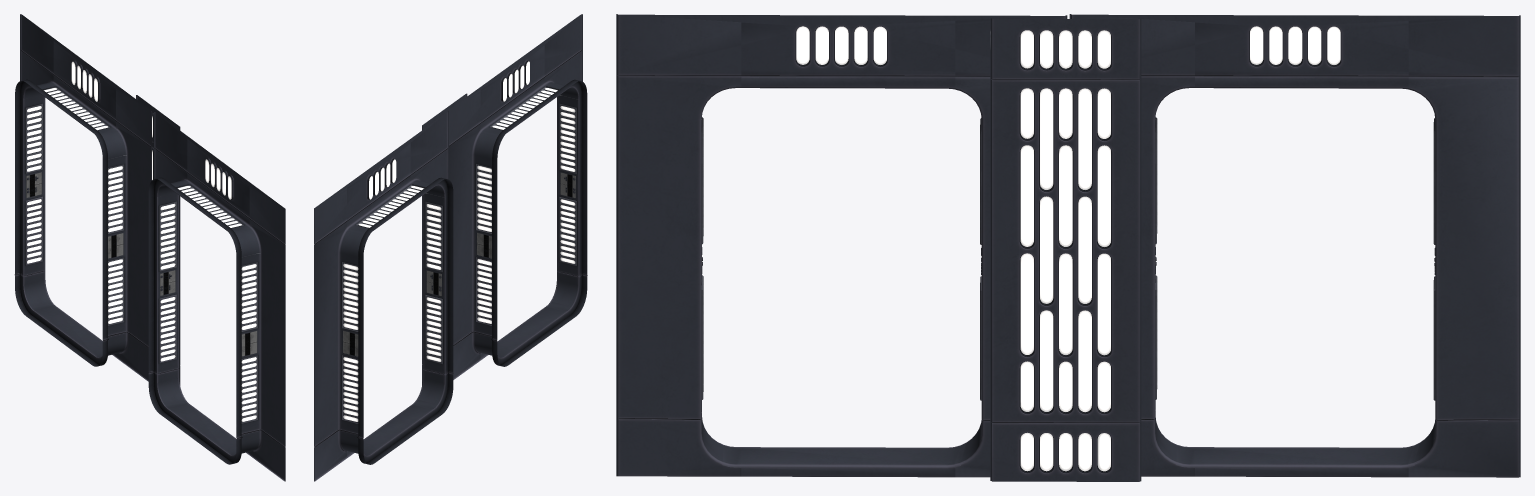
The model's file is sw_double_gate.glb.
The picture shows the model from 3 angles, left to right: view 1: azimuth 30°, elevation 25°; view 2: azimuth 150°, elevation 25°; view 3: azimuth 270°, elevation 25°; orthographic projection. The views are drawn at different scales.
Parts seen in each view (by area): view 1: Small_DoorFrame7_VenatorV3_SmallDoor_WallLight_0.002, Small_DoorFrame7_VenatorV3_SmallDoor_WallLight_0.007, Small_DoorFrame7_VenatorV3_SmallDoor_WallLight_0.003, Small_DoorFrame7_VenatorV3_SmallDoor_WallLight_0.006, Small_DoorFrame7_VenatorV3_SmallDoor_WallLight_0.008, Small_DoorFrame7_VenatorV3_SmallDoor_WallLight_0.001, Small_DoorFrame7_VenatorV3_SmallDoor_WallLight_0.004, Small_DoorFrame7_VenatorV3_SmallDoor_WallLight_0.005, VenatorLights5_VenatorV3_SmallDoor_WallLight_0.001; view 2: Small_DoorFrame7_VenatorV3_SmallDoor_WallLight_0.006, Small_DoorFrame7_VenatorV3_SmallDoor_WallLight_0.003, Small_DoorFrame7_VenatorV3_SmallDoor_WallLight_0.002, Small_DoorFrame7_VenatorV3_SmallDoor_WallLight_0.007, Small_DoorFrame7_VenatorV3_SmallDoor_WallLight_0.001, Small_DoorFrame7_VenatorV3_SmallDoor_WallLight_0.008, Small_DoorFrame7_VenatorV3_SmallDoor_WallLight_0.004, Small_DoorFrame7_VenatorV3_SmallDoor_WallLight_0.005, VenatorLights5_VenatorV3_SmallDoor_WallLight_0.001; view 3: VenatorLights5_VenatorV3_SmallDoor_WallLight_0.001, Small_DoorFrame7_VenatorV3_SmallDoor_WallLight_0.002, Small_DoorFrame7_VenatorV3_SmallDoor_WallLight_0.006, Small_DoorFrame7_VenatorV3_SmallDoor_WallLight_0.001, Small_DoorFrame7_VenatorV3_SmallDoor_WallLight_0.008, Small_DoorFrame7_VenatorV3_SmallDoor_WallLight_0.007, Small_DoorFrame7_VenatorV3_SmallDoor_WallLight_0.003, Small_DoorFrame7_VenatorV3_SmallDoor_WallLight_0.004, Small_DoorFrame7_VenatorV3_SmallDoor_WallLight_0.005.
Part boxes in pixels (x1,y1,x2,y2): Small_DoorFrame7_VenatorV3_SmallDoor_WallLight_0.002: (226,182,285,481); Small_DoorFrame7_VenatorV3_SmallDoor_WallLight_0.007: (92,84,151,381); Small_DoorFrame7_VenatorV3_SmallDoor_WallLight_0.003: (148,112,187,411); Small_DoorFrame7_VenatorV3_SmallDoor_WallLight_0.006: (14,14,53,313); Small_DoorFrame7_VenatorV3_SmallDoor_WallLight_0.008: (24,38,117,133); Small_DoorFrame7_VenatorV3_SmallDoor_WallLight_0.001: (158,136,251,231); Small_DoorFrame7_VenatorV3_SmallDoor_WallLight_0.004: (158,397,254,463); Small_DoorFrame7_VenatorV3_SmallDoor_WallLight_0.005: (24,299,121,366); VenatorLights5_VenatorV3_SmallDoor_WallLight_0.001: (136,95,180,385); Small_DoorFrame7_VenatorV3_SmallDoor_WallLight_0.006: (314,185,371,481); Small_DoorFrame7_VenatorV3_SmallDoor_WallLight_0.003: (448,87,505,379); Small_DoorFrame7_VenatorV3_SmallDoor_WallLight_0.002: (544,14,587,314); Small_DoorFrame7_VenatorV3_SmallDoor_WallLight_0.007: (410,112,453,412); Small_DoorFrame7_VenatorV3_SmallDoor_WallLight_0.001: (478,41,575,137); Small_DoorFrame7_VenatorV3_SmallDoor_WallLight_0.008: (344,139,441,235); Small_DoorFrame7_VenatorV3_SmallDoor_WallLight_0.004: (478,301,577,366); Small_DoorFrame7_VenatorV3_SmallDoor_WallLight_0.005: (344,399,443,464); VenatorLights5_VenatorV3_SmallDoor_WallLight_0.001: (422,93,467,385); VenatorLights5_VenatorV3_SmallDoor_WallLight_0.001: (990,18,1141,481); Small_DoorFrame7_VenatorV3_SmallDoor_WallLight_0.002: (616,14,741,476); Small_DoorFrame7_VenatorV3_SmallDoor_WallLight_0.006: (1408,15,1520,477); Small_DoorFrame7_VenatorV3_SmallDoor_WallLight_0.001: (736,15,965,93); Small_DoorFrame7_VenatorV3_SmallDoor_WallLight_0.008: (1189,15,1419,93); Small_DoorFrame7_VenatorV3_SmallDoor_WallLight_0.007: (1069,14,1194,476); Small_DoorFrame7_VenatorV3_SmallDoor_WallLight_0.003: (955,15,1067,477); Small_DoorFrame7_VenatorV3_SmallDoor_WallLight_0.004: (722,442,966,477); Small_DoorFrame7_VenatorV3_SmallDoor_WallLight_0.005: (1176,442,1419,477).
Bounding box in the file's own units: 0.3267 × 2.58 × 4.58.
2 materials, 2 textured.
